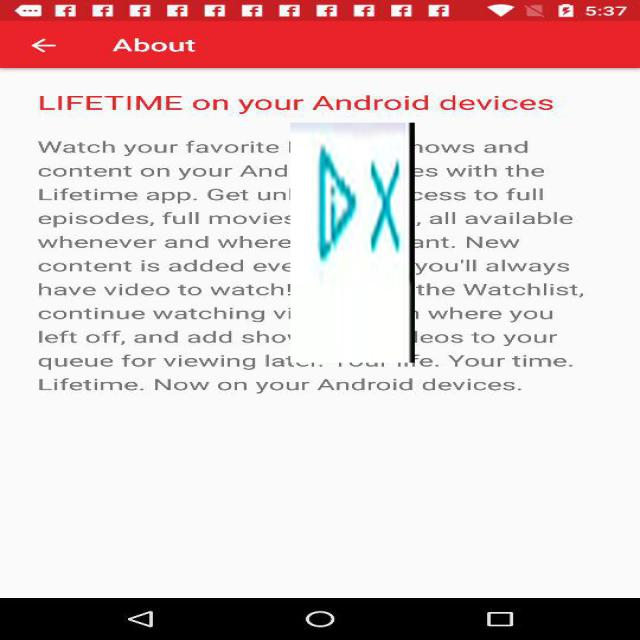sneaking: (290, 122, 415, 362)
